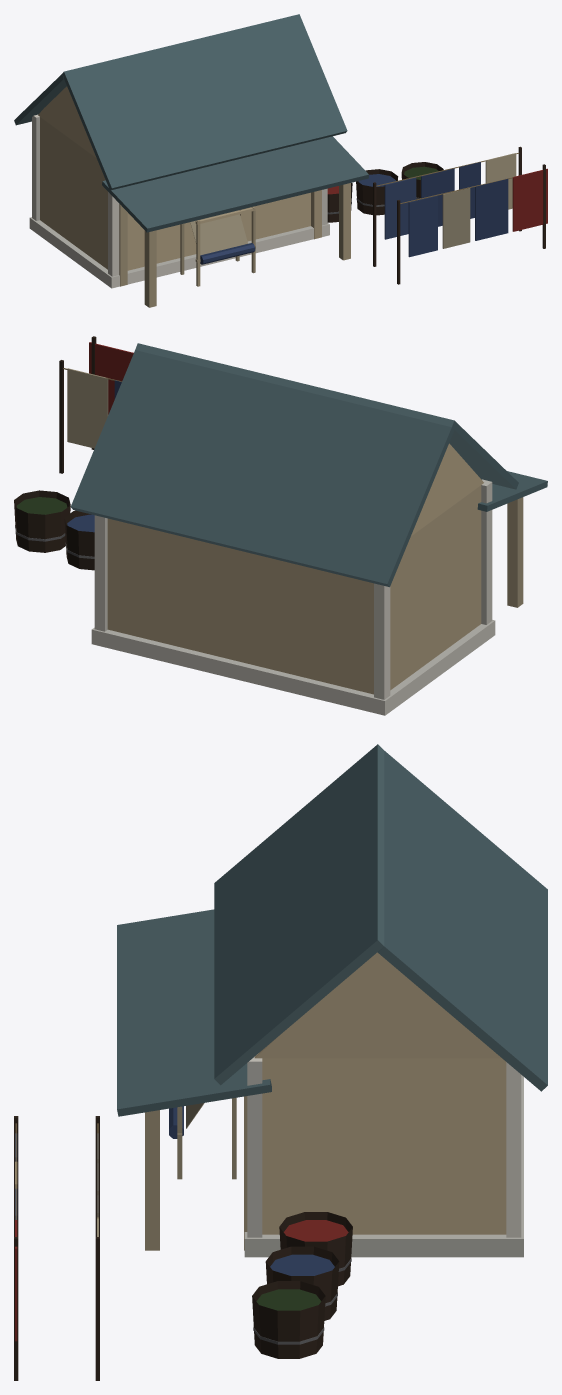
The model's file is walk_veiled_weaver.glb.
3 renders of one model, top to bottom at view 1: azimuth 30°, elevation 25°; view 2: azimuth 150°, elevation 25°; view 3: azimuth 270°, elevation 25°, orthographic. The views are drawn at different scales.
Visible parts, largest first — view 1: walk_veiled_weaver_roof, walk_veiled_weaver; view 2: walk_veiled_weaver, walk_veiled_weaver_roof; view 3: walk_veiled_weaver_roof, walk_veiled_weaver.
Boxes of the visible parts, bbox=[...] form: walk_veiled_weaver_roof: bbox=[14, 14, 368, 232]; walk_veiled_weaver: bbox=[29, 86, 547, 307]; walk_veiled_weaver: bbox=[14, 336, 523, 715]; walk_veiled_weaver_roof: bbox=[70, 343, 547, 587]; walk_veiled_weaver_roof: bbox=[117, 744, 547, 1116]; walk_veiled_weaver: bbox=[14, 952, 523, 1380].
Size of what is drawn, in the model's own units: 10.9 by 5.25 by 7.83.
Materials: 2 (2 with a texture image).
